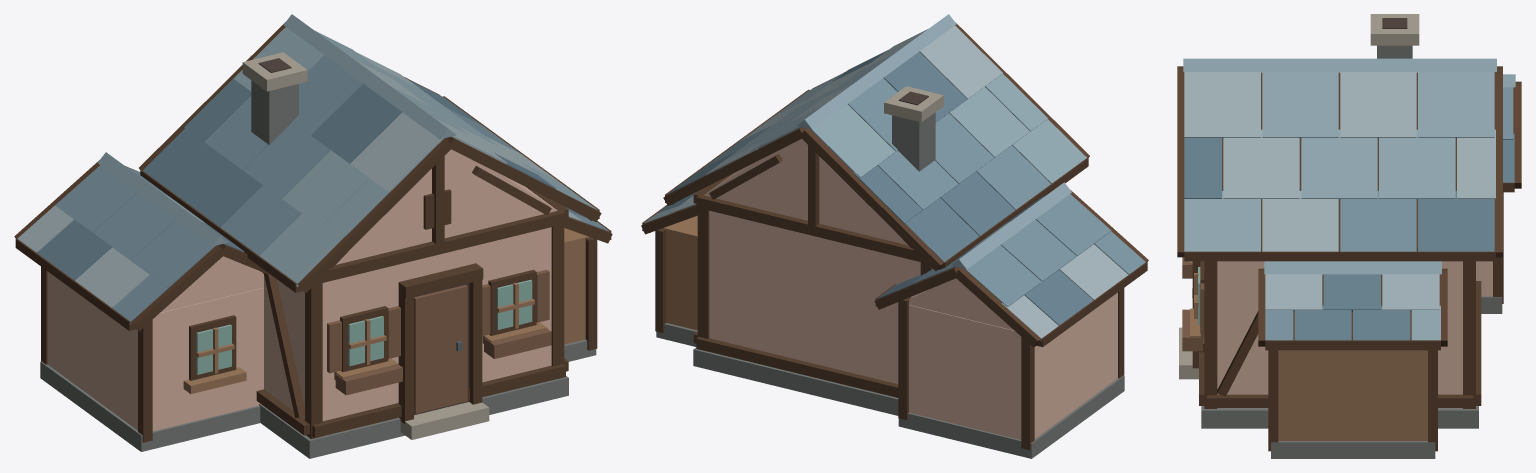
Rendered from ENV_Cottage_C_LOD1.glb.
3 renders of one model, left to right at view 1: azimuth 30°, elevation 25°; view 2: azimuth 150°, elevation 25°; view 3: azimuth 270°, elevation 25°, orthographic. The views are drawn at different scales.
Parts seen in each view (by area): view 1: ENV_Cottage_C_LOD1_roof_roofTiles, ENV_Cottage_C_LOD1_shell_woodDark, ENV_Cottage_C_LOD1_shell_plasterRose, ENV_Cottage_C_LOD1_wing_plasterRose, ENV_Cottage_C_LOD1_wing_roofTiles, ENV_Cottage_C_LOD1_shell_wood, ENV_Cottage_C_LOD1_wing_woodDark, ENV_Cottage_C_LOD1_roof_woodDark, ENV_Cottage_C_LOD1_foundation_stoneDark, ENV_Cottage_C_LOD1_wing_stoneDark, ENV_Cottage_C_LOD1_shed_woodLight, ENV_Cottage_C_LOD1_occupied_wood (+8 smaller); view 2: ENV_Cottage_C_LOD1_roof_roofTiles, ENV_Cottage_C_LOD1_shell_plasterRose, ENV_Cottage_C_LOD1_wing_plasterRose, ENV_Cottage_C_LOD1_wing_roofTiles, ENV_Cottage_C_LOD1_shell_woodDark, ENV_Cottage_C_LOD1_wing_woodDark, ENV_Cottage_C_LOD1_roof_woodDark, ENV_Cottage_C_LOD1_foundation_stoneDark, ENV_Cottage_C_LOD1_wing_stoneDark, ENV_Cottage_C_LOD1_shed_woodLight, ENV_Cottage_C_LOD1_occupied_stoneDark, ENV_Cottage_C_LOD1_shed_woodDark (+2 smaller); view 3: ENV_Cottage_C_LOD1_roof_roofTiles, ENV_Cottage_C_LOD1_shed_roofTiles, ENV_Cottage_C_LOD1_shed_woodLight, ENV_Cottage_C_LOD1_shell_plasterRose, ENV_Cottage_C_LOD1_roof_woodDark, ENV_Cottage_C_LOD1_shell_woodDark, ENV_Cottage_C_LOD1_shed_woodDark, ENV_Cottage_C_LOD1_shed_stoneDark, ENV_Cottage_C_LOD1_foundation_stoneDark, ENV_Cottage_C_LOD1_wing_woodDark, ENV_Cottage_C_LOD1_occupied_stone, ENV_Cottage_C_LOD1_wing_roofTiles (+6 smaller).
Part boxes in pixels (x1,y1,x2,y2): ENV_Cottage_C_LOD1_roof_roofTiles: [143, 14, 597, 286]; ENV_Cottage_C_LOD1_shell_woodDark: [256, 156, 568, 438]; ENV_Cottage_C_LOD1_shell_plasterRose: [260, 149, 557, 421]; ENV_Cottage_C_LOD1_wing_plasterRose: [47, 256, 263, 431]; ENV_Cottage_C_LOD1_wing_roofTiles: [17, 152, 244, 324]; ENV_Cottage_C_LOD1_shell_wood: [327, 269, 549, 413]; ENV_Cottage_C_LOD1_wing_woodDark: [14, 160, 267, 442]; ENV_Cottage_C_LOD1_roof_woodDark: [139, 22, 601, 292]; ENV_Cottage_C_LOD1_foundation_stoneDark: [259, 376, 568, 458]; ENV_Cottage_C_LOD1_wing_stoneDark: [40, 361, 260, 451]; ENV_Cottage_C_LOD1_shed_woodLight: [564, 228, 589, 344]; ENV_Cottage_C_LOD1_occupied_wood: [335, 328, 551, 395]; ENV_Cottage_C_LOD1_roof_roofTiles: [667, 14, 1086, 262]; ENV_Cottage_C_LOD1_shell_plasterRose: [703, 139, 920, 383]; ENV_Cottage_C_LOD1_wing_plasterRose: [909, 278, 1117, 439]; ENV_Cottage_C_LOD1_wing_roofTiles: [876, 182, 1145, 341]; ENV_Cottage_C_LOD1_shell_woodDark: [693, 145, 932, 397]; ENV_Cottage_C_LOD1_wing_woodDark: [874, 190, 1148, 450]; ENV_Cottage_C_LOD1_roof_woodDark: [663, 22, 1089, 271]; ENV_Cottage_C_LOD1_foundation_stoneDark: [693, 347, 898, 415]; ENV_Cottage_C_LOD1_wing_stoneDark: [898, 375, 1124, 458]; ENV_Cottage_C_LOD1_shed_woodLight: [662, 215, 697, 330]; ENV_Cottage_C_LOD1_occupied_stoneDark: [892, 112, 935, 171]; ENV_Cottage_C_LOD1_shed_woodDark: [641, 204, 697, 332]; ENV_Cottage_C_LOD1_roof_roofTiles: [1183, 58, 1496, 251]; ENV_Cottage_C_LOD1_shed_roofTiles: [1264, 261, 1441, 340]; ENV_Cottage_C_LOD1_shed_woodLight: [1278, 350, 1427, 440]; ENV_Cottage_C_LOD1_shell_plasterRose: [1217, 261, 1462, 408]; ENV_Cottage_C_LOD1_roof_woodDark: [1177, 66, 1502, 261]; ENV_Cottage_C_LOD1_shell_woodDark: [1192, 261, 1481, 408]; ENV_Cottage_C_LOD1_shed_woodDark: [1258, 268, 1447, 451]; ENV_Cottage_C_LOD1_shed_stoneDark: [1271, 441, 1435, 458]; ENV_Cottage_C_LOD1_foundation_stoneDark: [1201, 406, 1478, 428]; ENV_Cottage_C_LOD1_wing_woodDark: [1493, 81, 1521, 303]; ENV_Cottage_C_LOD1_occupied_stone: [1370, 14, 1419, 45]; ENV_Cottage_C_LOD1_wing_roofTiles: [1503, 74, 1515, 182].
Size of the model in its own units: 7.18 by 4.48 by 4.52.
